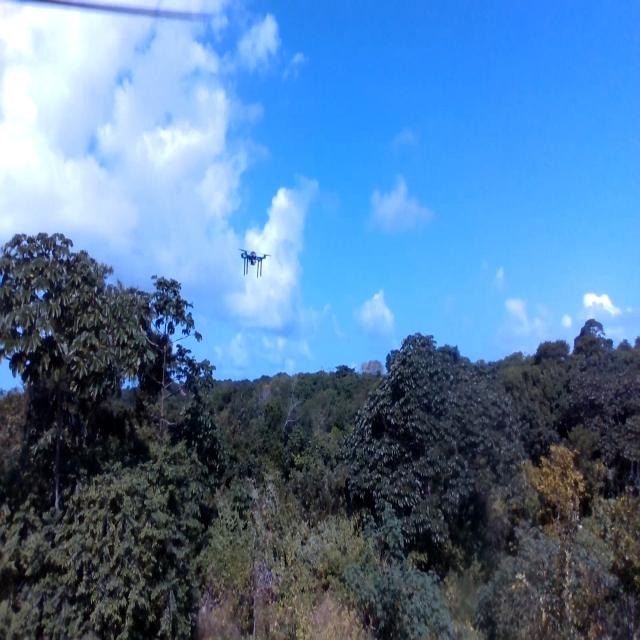-uav-: (228, 236, 275, 292)
